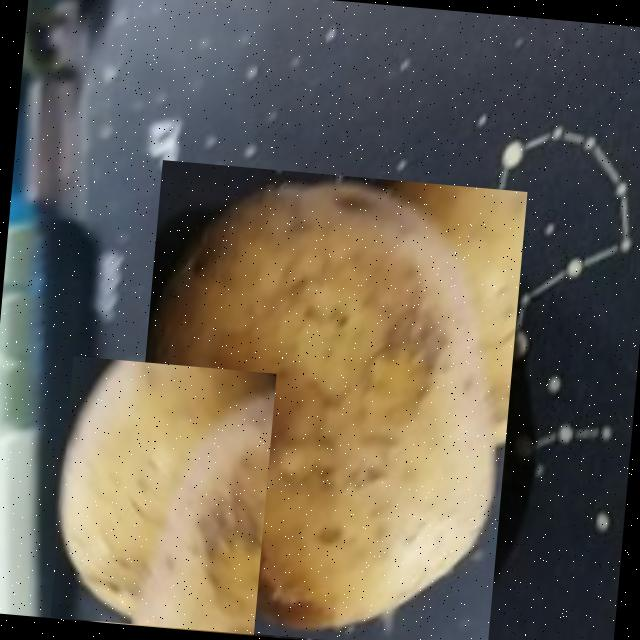Damaged potato: (121, 159, 526, 640)
Potato: (49, 356, 275, 634)
